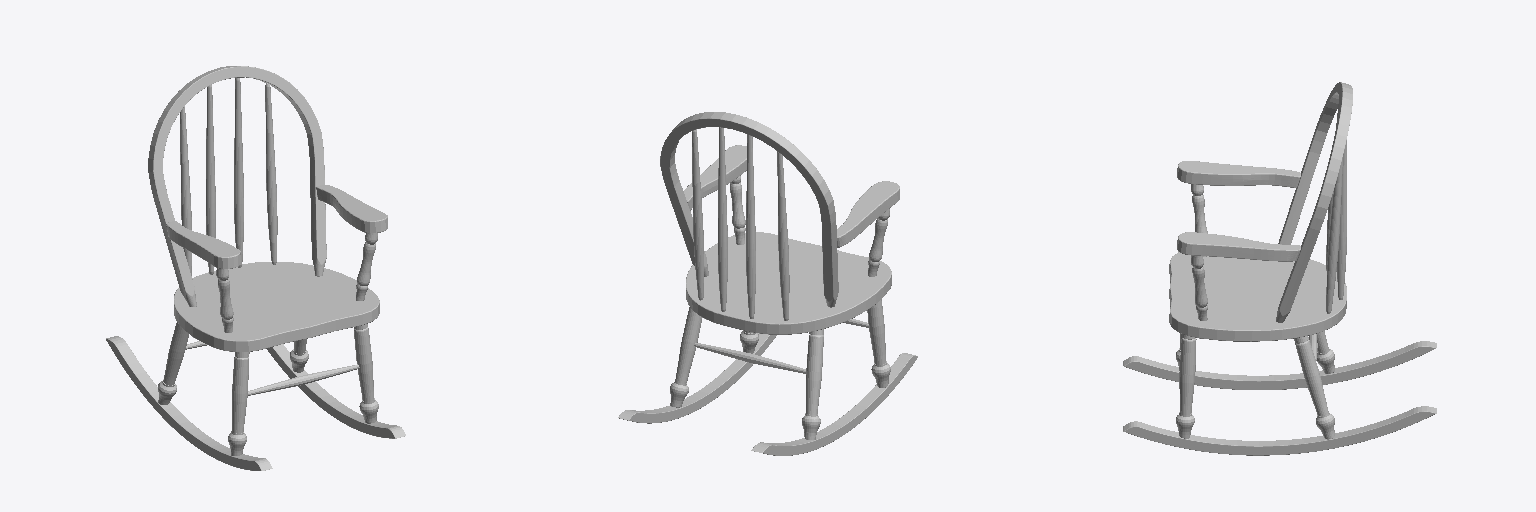
The model's file is children-rocking-chair-001.obj.
The picture shows the model from 3 angles: view 1: azimuth 30°, elevation 25°; view 2: azimuth 150°, elevation 25°; view 3: azimuth 270°, elevation 25°; orthographic projection.
Visible parts, largest first — view 1: children-rocking-chair-001; view 2: children-rocking-chair-001; view 3: children-rocking-chair-001.
Boxes of the visible parts, box(x1,y1,x2,y2) form: children-rocking-chair-001: box(106, 66, 405, 470); children-rocking-chair-001: box(618, 112, 917, 455); children-rocking-chair-001: box(1123, 82, 1436, 455).
Size of the model in its own units: 0.3785 by 0.6941 by 0.5988.